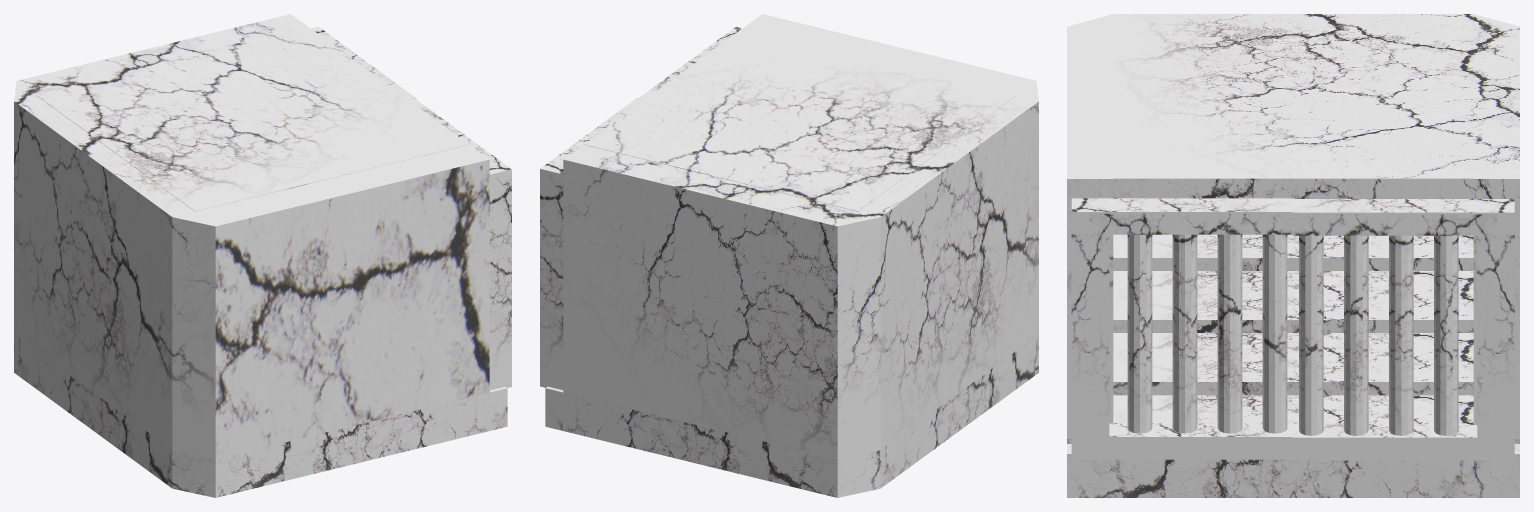
Rendered from ArmarioRachado0.fbx.
3 views of the same model, side by side, from view 1: azimuth 30°, elevation 25°; view 2: azimuth 150°, elevation 25°; view 3: azimuth 270°, elevation 25° (orthographic). The views are drawn at different scales.
Parts seen in each view (by area): view 1: Plane, Cylinder.001, Cylinder; view 2: Plane, Cylinder, Cylinder.001; view 3: Plane, Cylinder.001, Cylinder.
Boxes of the visible parts, box(x1,y1,x2,y2) form: Plane: box(14, 14, 507, 497); Cylinder.001: box(409, 98, 511, 390); Cylinder: box(311, 26, 416, 99); Plane: box(545, 14, 1038, 497); Cylinder: box(540, 97, 644, 389); Cylinder.001: box(639, 27, 742, 99); Plane: box(1067, 14, 1519, 497); Cylinder.001: box(1071, 198, 1293, 459); Cylinder: box(1292, 199, 1514, 460).
Size of the model in its own units: 235 by 190 by 251.
